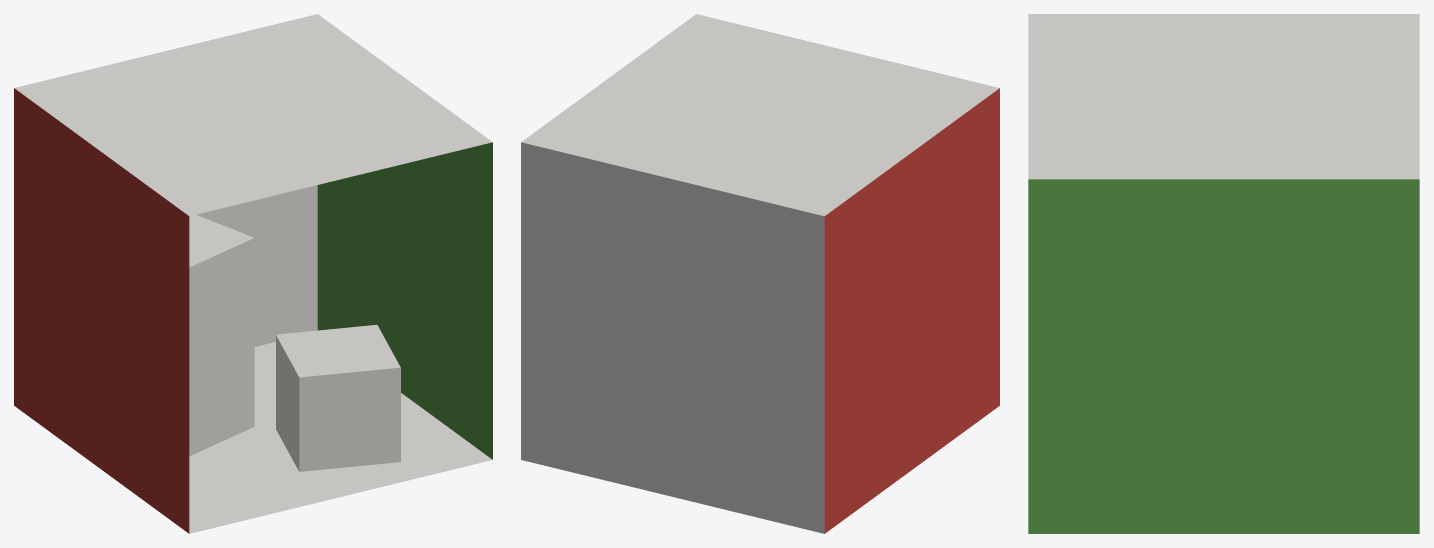
File: cornell_point_spot.glb
The picture shows the model from 3 angles, left to right: view 1: azimuth 30°, elevation 25°; view 2: azimuth 150°, elevation 25°; view 3: azimuth 270°, elevation 25°; orthographic projection. The views are drawn at different scales.
Parts seen in each view (by area): view 1: left_wall, ceiling, right_wall, floor, short_box, tall_box, back_wall; view 2: back_wall, left_wall, ceiling; view 3: right_wall, ceiling.
Part boxes in pixels (x1,y1,x2,y2): left_wall: (14,88,189,533); ceiling: (14,14,492,216); right_wall: (317,142,492,459); floor: (189,342,492,533); short_box: (276,324,400,471); tall_box: (189,215,254,455); back_wall: (196,185,317,346); back_wall: (521,142,824,533); left_wall: (824,88,999,533); ceiling: (521,14,999,216); right_wall: (1028,179,1419,533); ceiling: (1028,14,1419,179).
Size of the model in its own units: 0.555 by 0.555 by 0.555.
